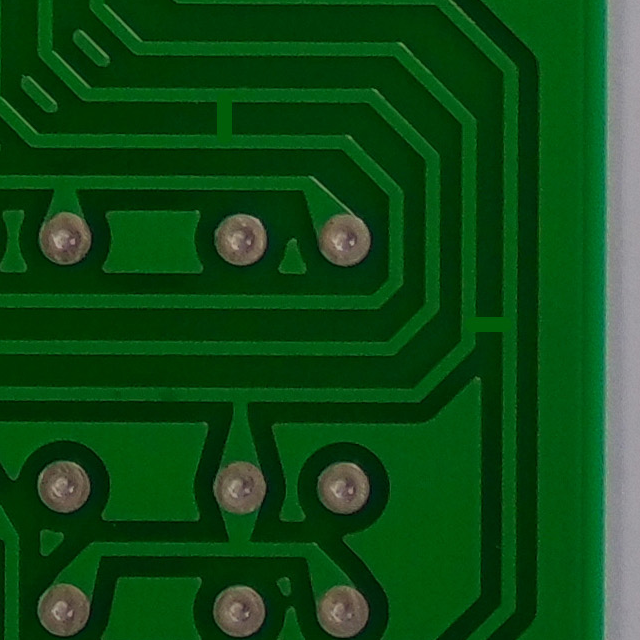short: (191, 80, 251, 162), (453, 298, 522, 342)
